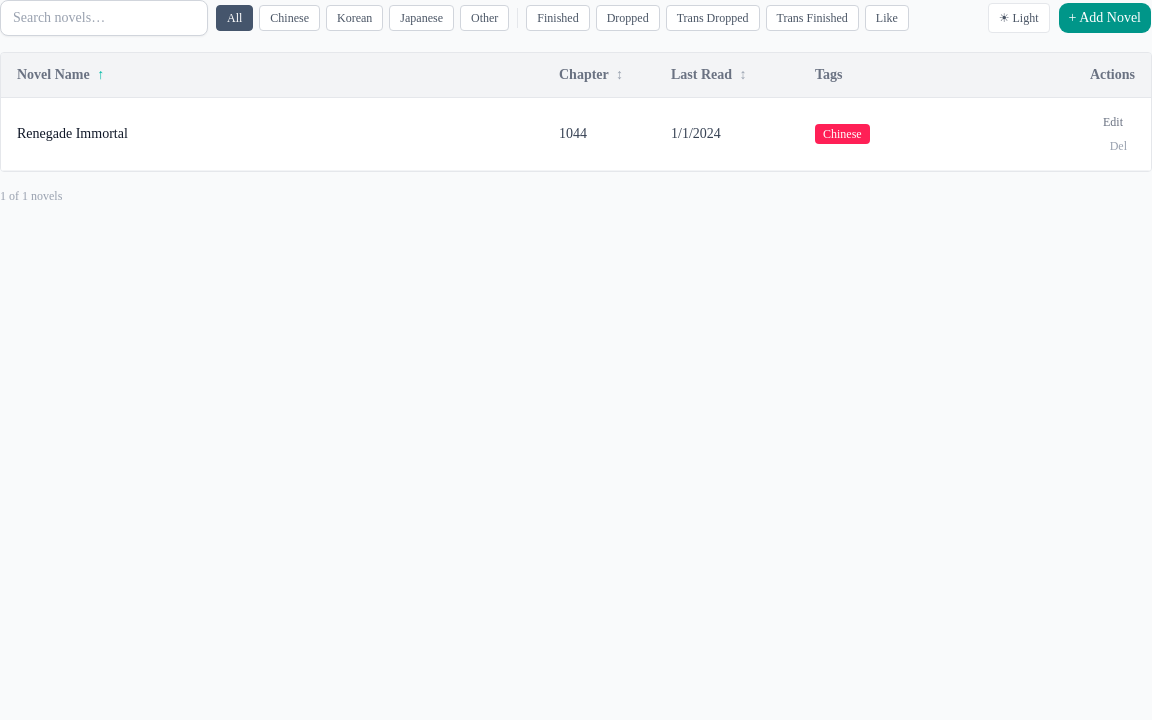
it: Duplicate detection › preserves the new chapter entered by the user after switching to edit mode
The width and height of the screenshot is (1152, 720).
Click the button "+ Add Novel": (1105, 18) [1058, 2, 1151, 34]
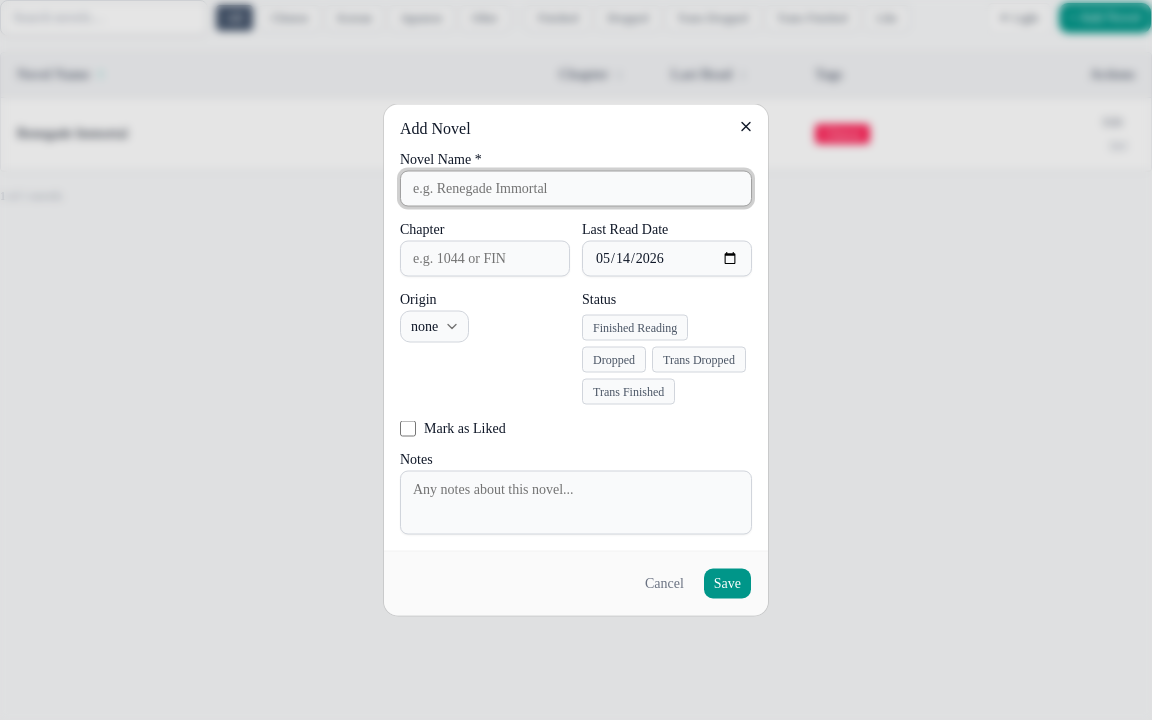
expect the dialog is shown: met, box [384, 104, 768, 616]
In the field labelled "Novel Name *": (576, 188) [400, 170, 752, 206], type "Renegade Immortal"
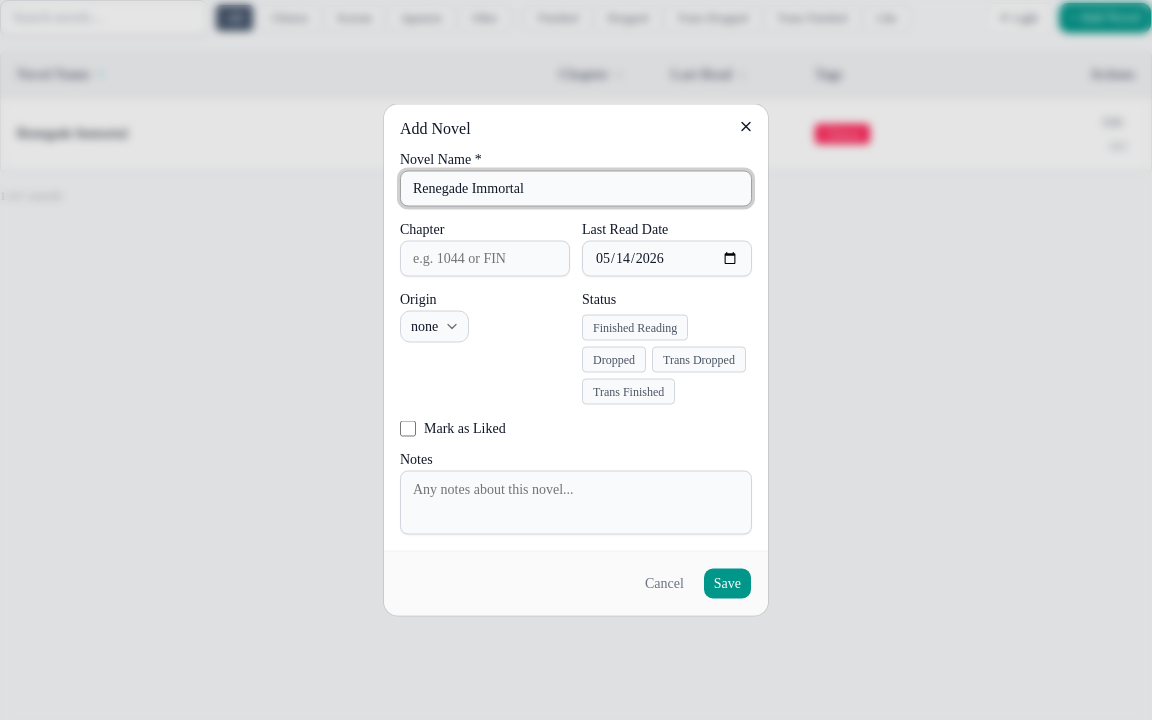
In the field labelled "Chapter": (485, 258) [400, 240, 570, 276], type "2000"
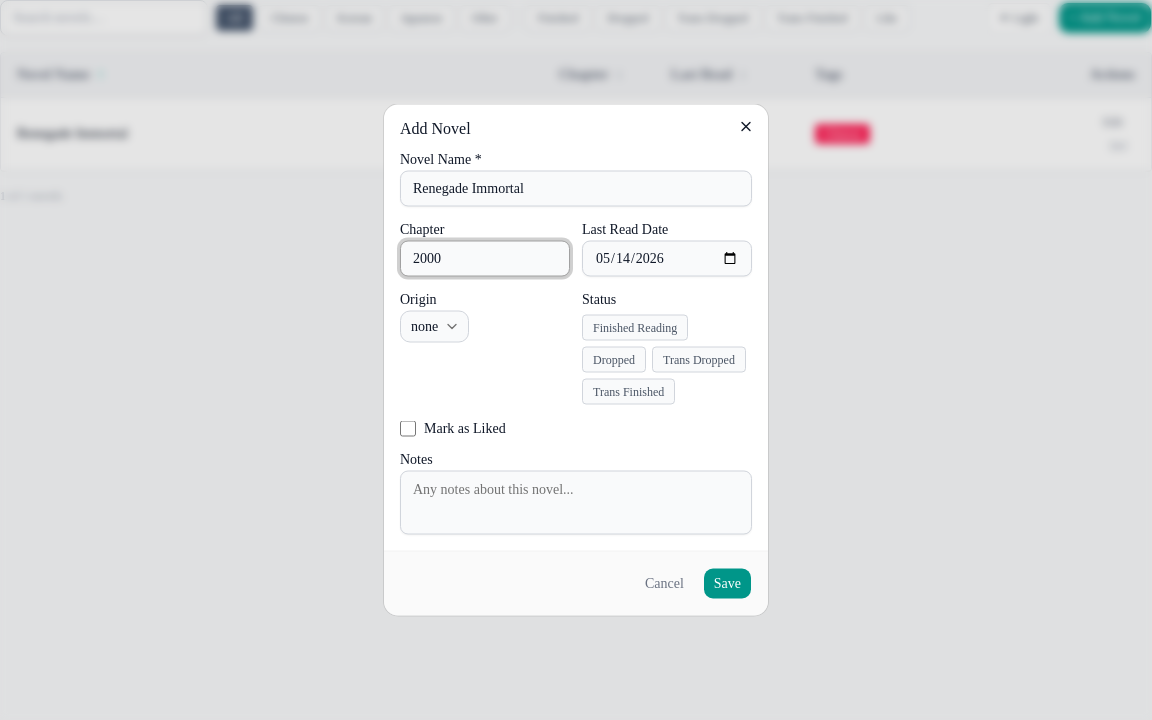
Click the button "Save": (727, 584) [703, 568, 752, 600]
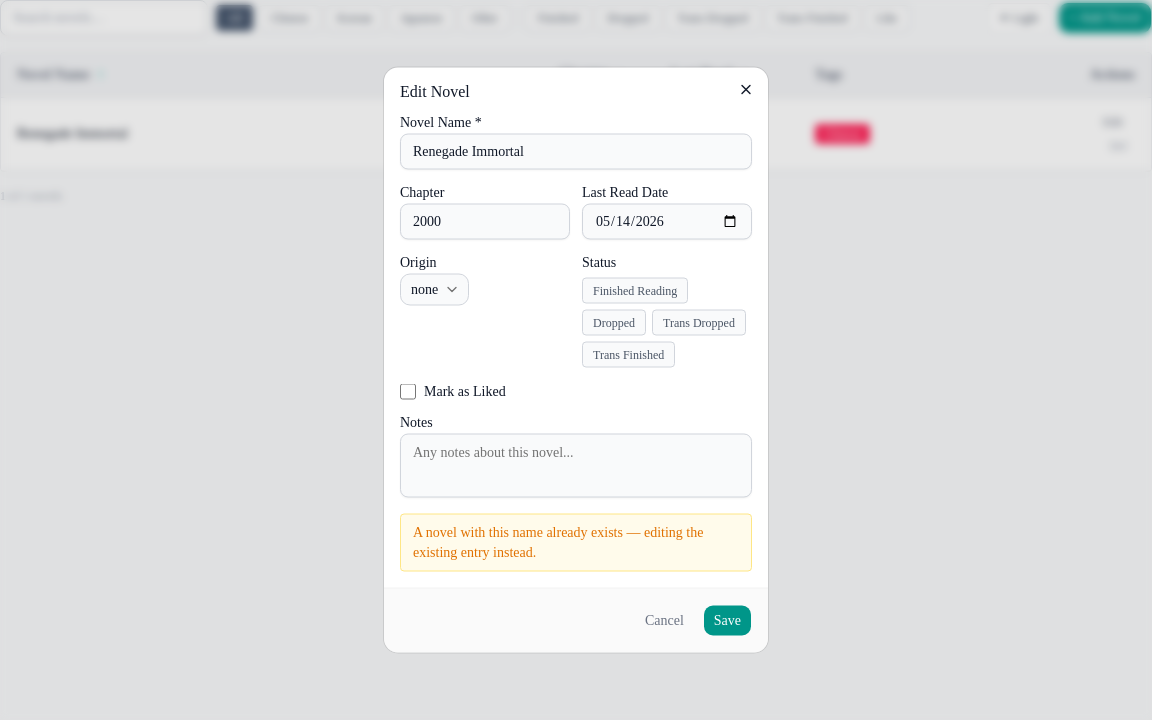
expect the text "already exists" is shown: met, box [413, 524, 704, 560]
